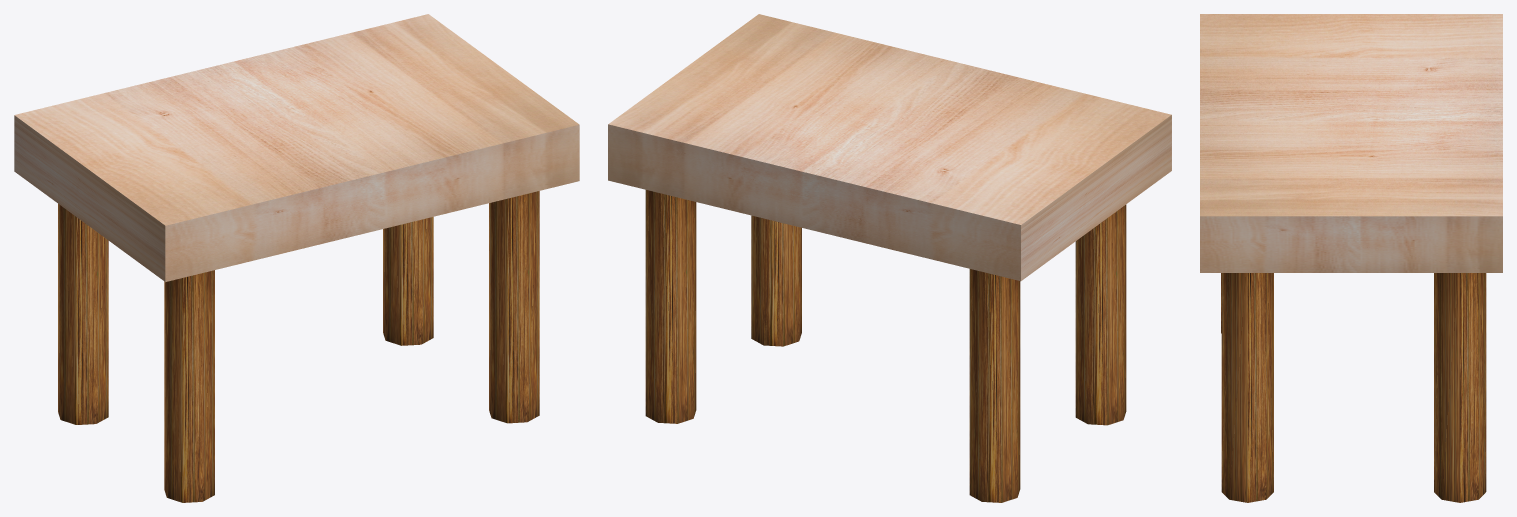
The model's file is table.gltf.
The picture shows the model from 3 angles, left to right: view 1: azimuth 30°, elevation 25°; view 2: azimuth 150°, elevation 25°; view 3: azimuth 270°, elevation 25°; orthographic projection.
Parts seen in each view (by area): view 1: Node; view 2: Node; view 3: Node.
Boxes of the visible parts, bbox=[...] form: Node: bbox=[14, 14, 579, 502]; Node: bbox=[608, 14, 1171, 502]; Node: bbox=[1200, 14, 1502, 502].
Bounding box in the file's own units: 10.08 × 6.86 × 6.37.
Materials: 2 (2 with a texture image).
